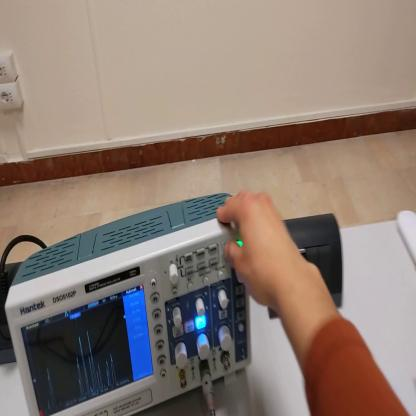hand: (216, 189, 304, 313)
oscilloscope: (6, 190, 251, 416)
socket: (2, 261, 25, 366)
